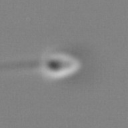normal: (1, 55, 43, 77)
